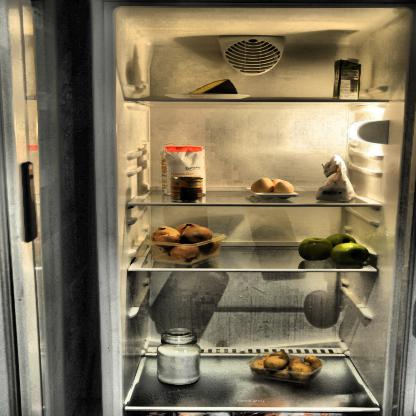apple: (298, 232, 370, 267)
cheese: (184, 78, 242, 96)
corn: (168, 176, 207, 202)
eggs: (249, 177, 298, 198)
heavy_cream: (333, 56, 361, 102)
onion: (150, 222, 224, 260)
potato: (247, 348, 323, 385)
